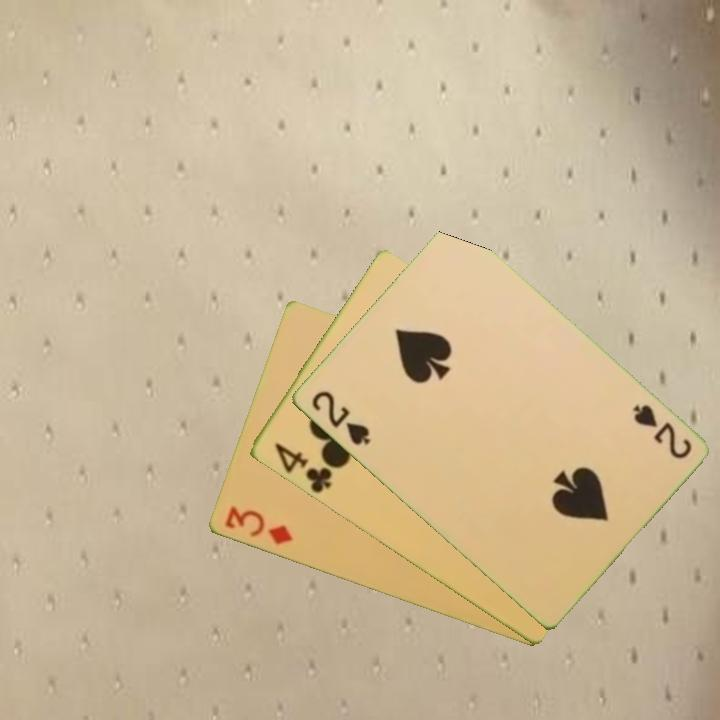2s: (628, 400, 695, 462), (307, 387, 373, 449)
3d: (220, 503, 295, 549)
4c: (270, 439, 337, 497)
